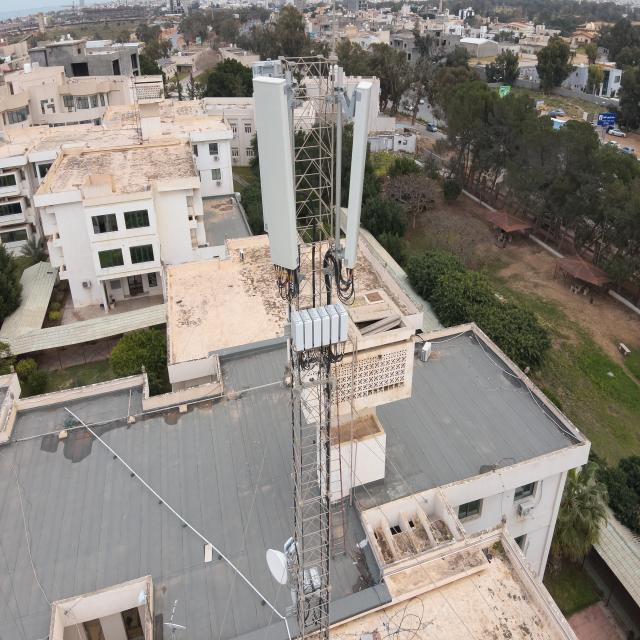antenna: (252, 77, 300, 271), (250, 57, 285, 234), (343, 78, 374, 270)
lighnig-rad: (331, 0, 336, 65)
microware-dish: (266, 537, 300, 587)
power-box: (291, 566, 320, 604)
radio-unit: (290, 301, 348, 352)
